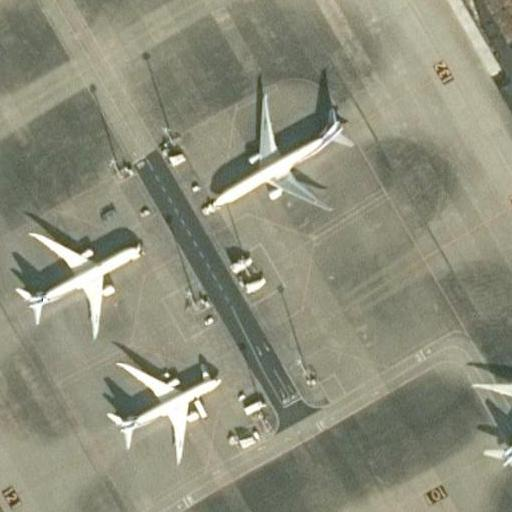Aircraft: (198, 88, 360, 224), (7, 224, 155, 333), (86, 355, 238, 460), (469, 313, 512, 474)
